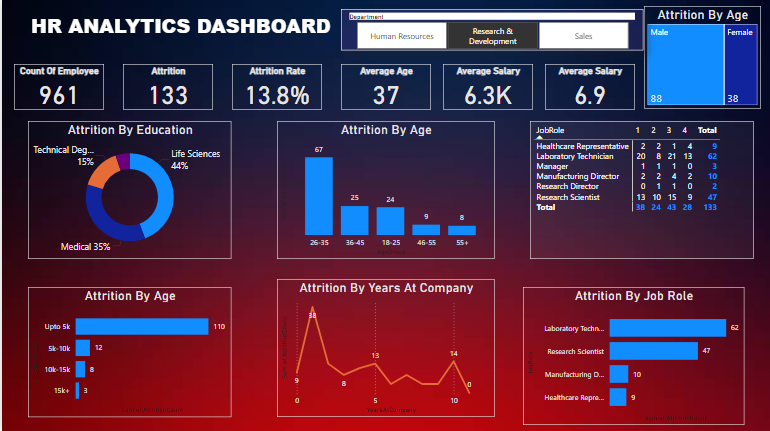

What the dashboard file says about the page in this screenshot:
{"tool":"powerbi","page":{"name":"Page 1","canvas":[1280,720],"ordinal":0},"visuals":[{"type":"card","title":"Count Of Employee","fields":{"Values":["CountNonNull(HR_Analytics (2).EmpID)"]},"box":[20.2,107.5,149.5,75.6],"z":0},{"type":"card","title":"Attrition","fields":{"Values":["Sum(HR_Analytics (2).AttritionCount)"]},"box":[201.6,107.5,149.5,75.6],"z":1000},{"type":"card","title":"Average Age","fields":{"Values":["Avg(HR_Analytics (2).Age)"]},"box":[564.4,107.5,149.5,75.6],"z":2000},{"type":"card","title":"Attrition Rate","fields":{"Values":["HR_Analytics (2).AttritionRate"]},"box":[383,107.5,149.5,75.6],"z":3000},{"type":"card","title":"Average Salary","fields":{"Values":["Avg(HR_Analytics (2).MonthlyIncome)"]},"box":[735.7,107.5,149.5,75.6],"z":4000},{"type":"card","title":"Average Salary","fields":{"Values":["Avg(HR_Analytics (2).YearsAtCompany)"]},"box":[905.4,107.5,149.5,75.6],"z":5000},{"type":"donutChart","title":"Attrition By Education","fields":{"Category":["HR_Analytics (2).EducationField"],"Y":["Sum(HR_Analytics (2).AttritionCount)"]},"box":[43.7,203.3,339.3,230.1],"z":6000},{"type":"columnChart","title":"Attrition By Age","fields":{"Category":["HR_Analytics (2).AgeGroup"],"Y":["Sum(HR_Analytics (2).AttritionCount)"]},"box":[458.6,203.3,362.8,230.1],"z":7000},{"type":"pivotTable","fields":{"Rows":["HR_Analytics (2).JobRole"],"Columns":["HR_Analytics (2).JobSatisfaction"],"Values":["Sum(HR_Analytics (2).AttritionCount)"]},"box":[880.2,203.3,372.9,230.1],"z":8000},{"type":"barChart","title":"Attrition By Age","fields":{"Category":["HR_Analytics (2).SalarySlab"],"Y":["Sum(HR_Analytics (2).AttritionCount)"]},"box":[43.7,480.4,339.3,216.7],"z":9000},{"type":"barChart","title":"Attrition By Job Role","fields":{"Category":["HR_Analytics (2).JobRole"],"Y":["Sum(HR_Analytics (2).AttritionCount)"]},"box":[868.9,480,368.7,229.9],"z":10000},{"type":"lineChart","title":"Attrition By Years At Company","fields":{"Category":["HR_Analytics (2).YearsAtCompany"],"Y":["Sum(HR_Analytics (2).AttritionCount)"]},"box":[458.6,467,362.8,230.1],"z":11000},{"type":"treemap","title":"Attrition By Age","fields":{"Group":["HR_Analytics (2).Gender"],"Values":["Sum(HR_Analytics (2).AttritionCount)"]},"box":[1070,11.8,194.9,171.3],"z":12000},{"type":"slicer","fields":{"Values":["HR_Analytics (2).Department"]},"box":[564.4,16.8,503.9,68.9],"z":13000},{"type":"textbox","box":[43.7,16.8,582.9,55.4],"z":15000}]}

Visuals, with their boxes in screenshot pixels (x1, y1, x2, y2), scaled from the page's 1280x720 canvas onto the 770x431 screenshot:
"Count Of Employee" card: 12,64,102,110
"Attrition" card: 121,64,211,110
"Average Age" card: 340,64,429,110
"Attrition Rate" card: 230,64,320,110
"Average Salary" card: 443,64,533,110
"Average Salary" card: 545,64,635,110
"Attrition By Education" donutChart: 26,122,230,259
"Attrition By Age" columnChart: 276,122,494,259
pivotTable - HR_Analytics (2).JobRole x HR_Analytics (2).JobSatisfaction: 529,122,754,259
"Attrition By Age" barChart: 26,288,230,417
"Attrition By Job Role" barChart: 523,287,744,425
"Attrition By Years At Company" lineChart: 276,280,494,417
"Attrition By Age" treemap: 644,7,761,110
slicer - HR_Analytics (2).Department: 340,10,643,51
textbox: 26,10,377,43
